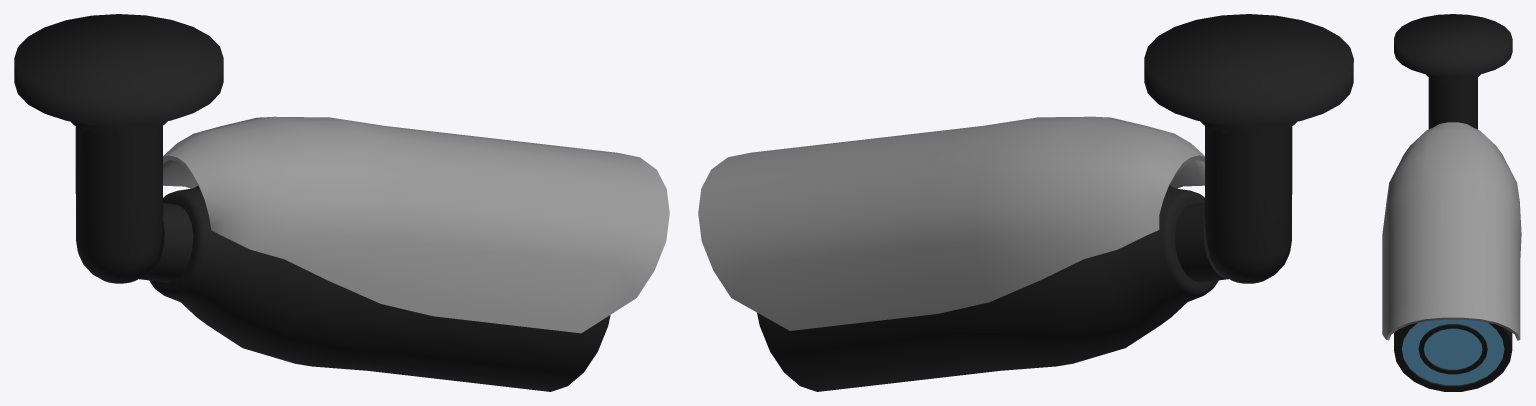
The model's file is Camara.FBX.
The picture shows the model from 3 angles, left to right: view 1: azimuth 30°, elevation 25°; view 2: azimuth 150°, elevation 25°; view 3: azimuth 270°, elevation 25°; orthographic projection. The views are drawn at different scales.
Visible parts, largest first — view 1: Camara_vigilancia_Mesh_01; view 2: Camara_vigilancia_Mesh_01; view 3: Camara_vigilancia_Mesh_01.
Part boxes in pixels (left/top/right/bottom): Camara_vigilancia_Mesh_01: left=14, top=14, right=669, bottom=391; Camara_vigilancia_Mesh_01: left=698, top=14, right=1353, bottom=391; Camara_vigilancia_Mesh_01: left=1382, top=14, right=1521, bottom=391.
Size of the model in its own units: 41.01 by 26.87 by 14.08.
